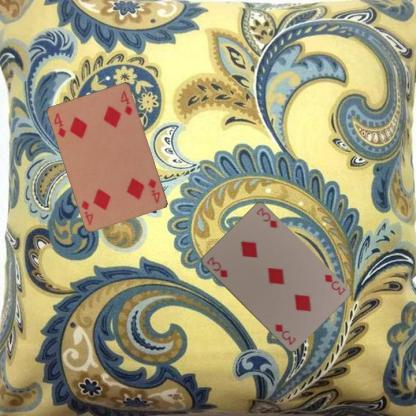3d: (204, 254, 229, 279), (322, 272, 346, 296)
4d: (146, 176, 162, 205), (51, 110, 67, 139)
